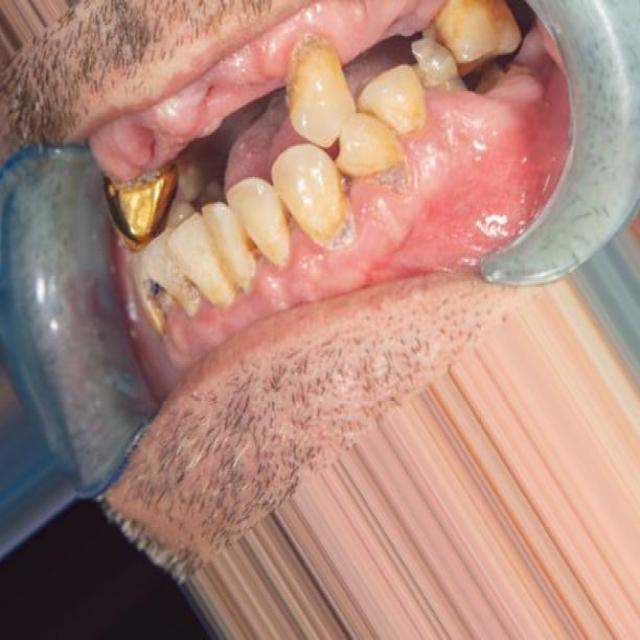caries: (408, 33, 468, 93), (368, 153, 418, 204), (138, 270, 177, 335)
